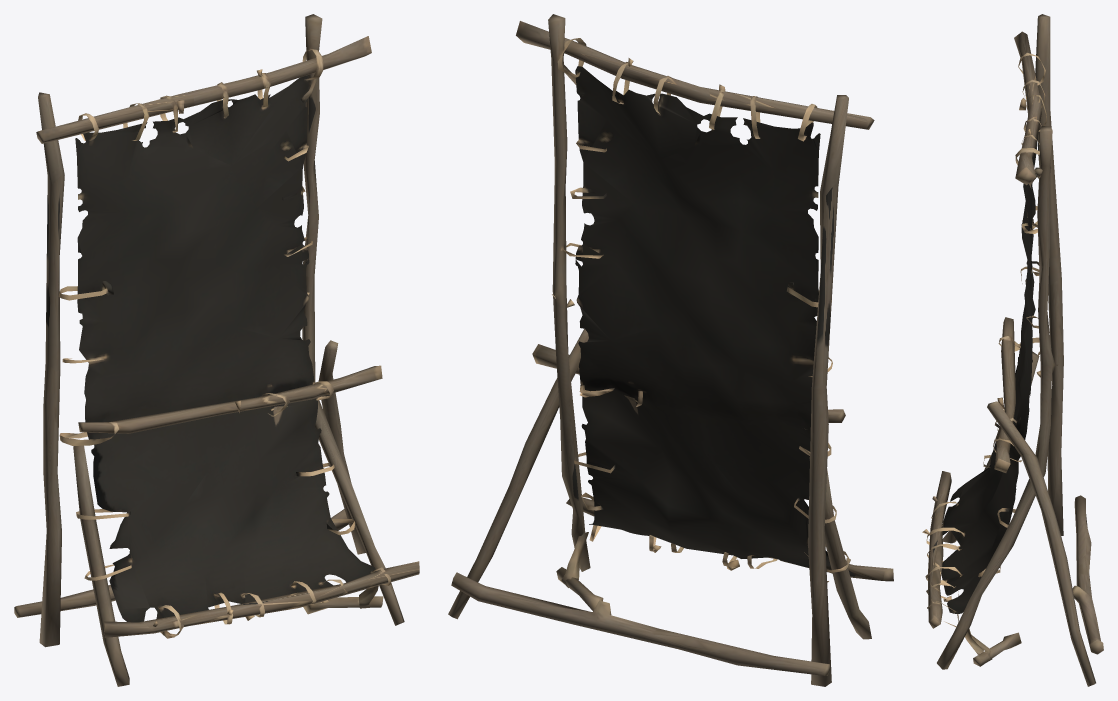
Rendered from canvas_windbreak.glb.
3 renders of one model, left to right at view 1: azimuth 30°, elevation 25°; view 2: azimuth 150°, elevation 25°; view 3: azimuth 270°, elevation 25°, orthographic. The views are drawn at different scales.
Visible parts, largest first — view 1: canvas_windbreak_LOD0; view 2: canvas_windbreak_LOD0; view 3: canvas_windbreak_LOD0.
Part boxes in pixels (left/top/right/bottom): canvas_windbreak_LOD0: left=14, top=14, right=419, bottom=686; canvas_windbreak_LOD0: left=448, top=14, right=893, bottom=686; canvas_windbreak_LOD0: left=922, top=14, right=1103, bottom=686.
Size of what is drawn, in the model's own units: 0.9885 by 1.5 by 0.4665.
Materials: 1 (1 with a texture image).
